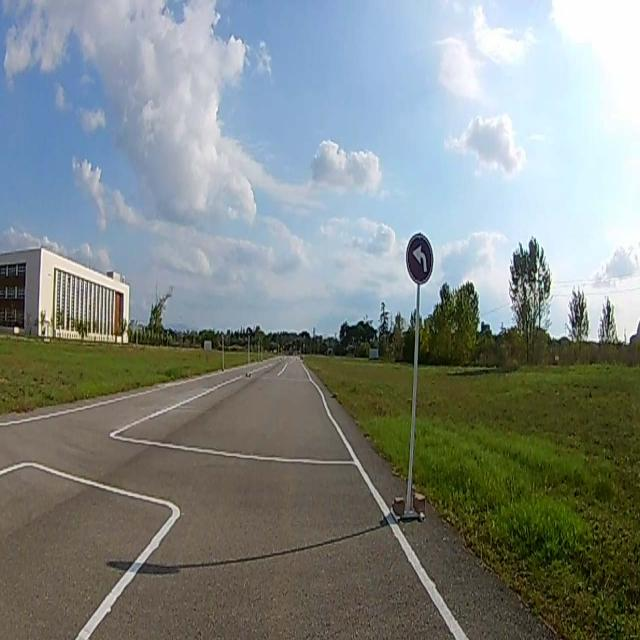sol: (404, 234, 433, 284)
